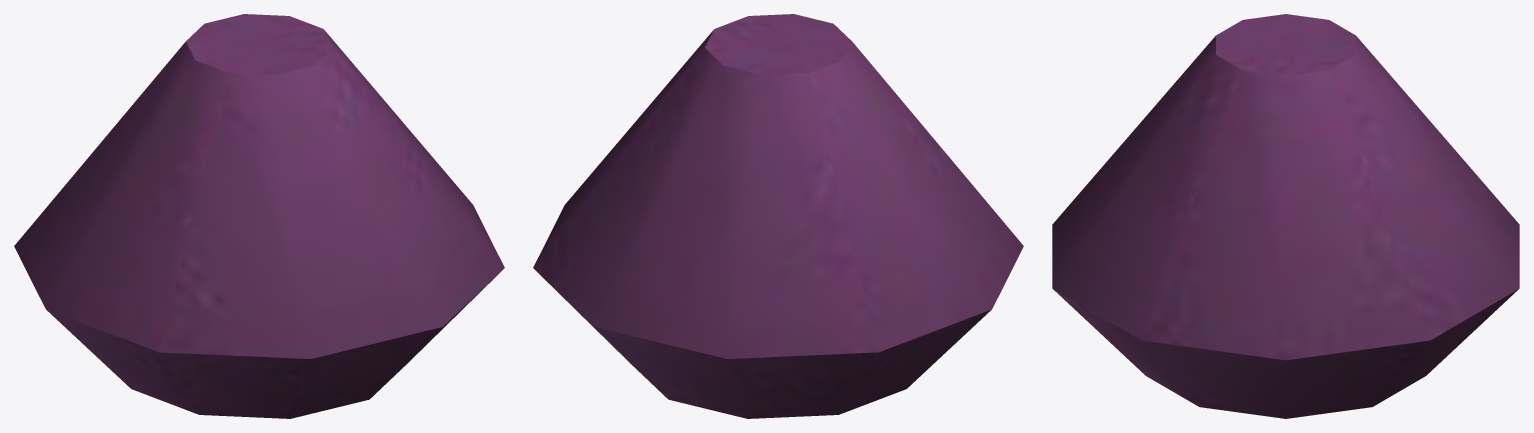
File: jellynut.glb
3 renders of one model, left to right at view 1: azimuth 30°, elevation 25°; view 2: azimuth 150°, elevation 25°; view 3: azimuth 270°, elevation 25°, orthographic.
Visible parts, largest first — view 1: jellynut; view 2: jellynut; view 3: jellynut.
Boxes of the visible parts, x1,y1,x2,y2 form: jellynut: (14,14,504,418); jellynut: (533,14,1023,418); jellynut: (1052,14,1519,418).
Bounding box in the file's own units: 0.18 × 0.126 × 0.1712.
1 material, 1 textured.
